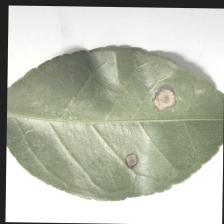canker: (104, 68, 202, 182)
